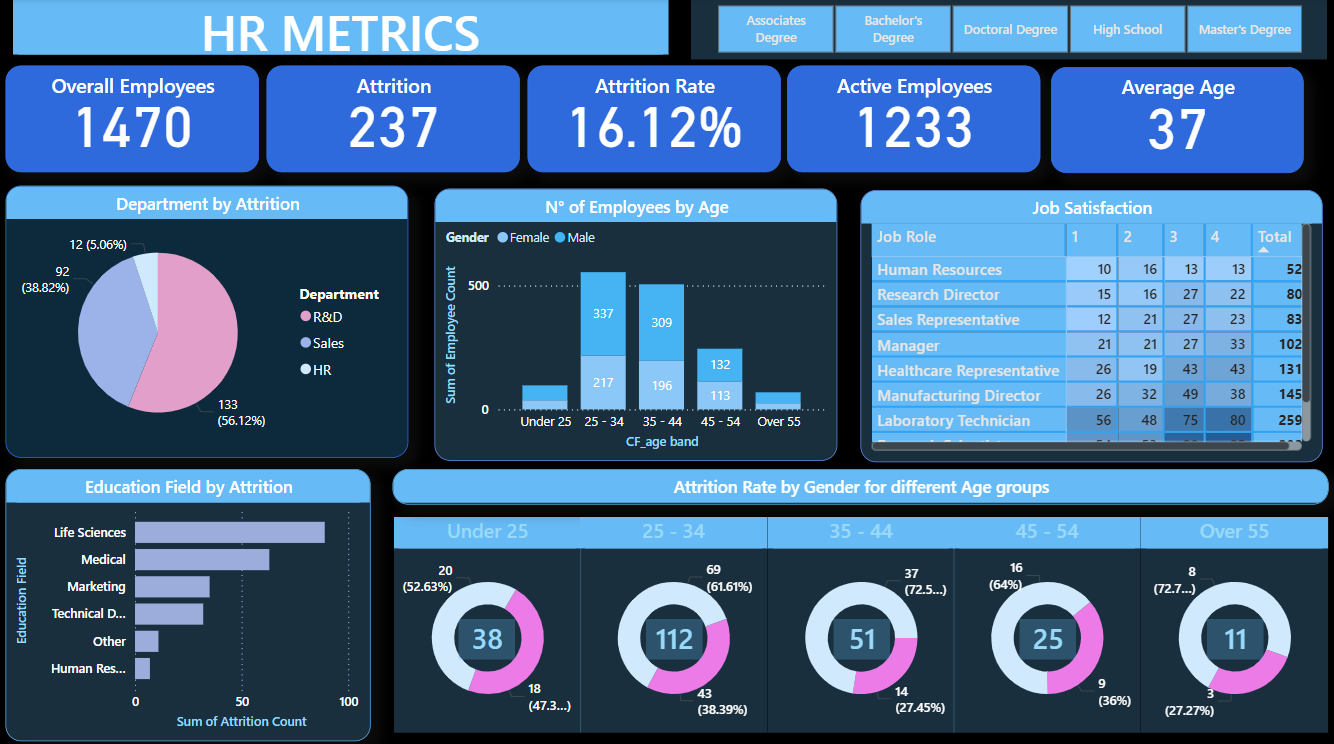

This screenshot's page, from the dashboard's own definition file:
{"tool":"powerbi","page":{"name":"Page 1","canvas":[1280,720],"ordinal":0},"visuals":[{"type":"card","title":"Overall Employees","fields":{"Values":["Sum(HR Data xlsx - HR data.Employee Count)"]},"box":[7.1,65.1,241.9,101.8],"z":0},{"type":"card","title":"Attrition","fields":{"Values":["Sum(HR Data xlsx - HR data.Attrition Count)"]},"box":[256,65.1,241.9,101.8],"z":1000},{"type":"card","title":"Attrition Rate","fields":{"Values":["HR Data xlsx - HR data.attrition rate"]},"box":[505,65.1,241.9,101.8],"z":2000},{"type":"card","title":"Active Employees","fields":{"Values":["HR Data xlsx - HR data.active employees"]},"box":[753.9,65.1,241.9,101.8],"z":3000},{"type":"card","title":"Average Age","fields":{"Values":["Avg(HR Data xlsx - HR data.Age)"]},"box":[1005.7,65.7,241.4,101.4],"z":4000},{"type":"pieChart","title":"Department by Attrition","fields":{"Category":["HR Data xlsx - HR data.Department"],"Y":["Sum(HR Data xlsx - HR data.Attrition Count)"]},"box":[7.1,179.6,384.8,260.3],"z":5000},{"type":"columnChart","title":"N° of Employees by Age","fields":{"Category":["HR Data xlsx - HR data.CF_age band"],"Y":["Sum(HR Data xlsx - HR data.Employee Count)"],"Series":["HR Data xlsx - HR data.Gender"]},"box":[417.3,182.5,384.8,260.3],"z":6000},{"type":"pivotTable","title":"Job Satisfaction","fields":{"Rows":["HR Data xlsx - HR data.Job Role"],"Columns":["HR Data xlsx - HR data.Job Satisfaction"],"Values":["Sum(HR Data xlsx - HR data.Employee Count)"]},"box":[824.3,182.9,441.4,260],"z":7000},{"type":"barChart","title":"Education Field by Attrition","fields":{"Category":["HR Data xlsx - HR data.Education Field"],"Y":["Sum(HR Data xlsx - HR data.Attrition Count)"]},"box":[7.1,450,348.6,260],"z":8000},{"type":"donutChart","title":"Under 25","fields":{"Category":["HR Data xlsx - HR data.Gender"],"Y":["Sum(HR Data xlsx - HR data.Attrition Count)"],"Series":["HR Data xlsx - HR data.CF_age band"]},"box":[378.6,495.7,178.6,205.7],"z":9000},{"type":"textbox","title":"Attrition Rate by Gender for different Age groups","box":[377.1,450,894.3,34.3],"z":10000},{"type":"donutChart","title":"25 - 34","fields":{"Category":["HR Data xlsx - HR data.Gender"],"Y":["Sum(HR Data xlsx - HR data.Attrition Count)"],"Series":["HR Data xlsx - HR data.CF_age band"]},"box":[555.7,495.7,178.6,205.7],"z":11000},{"type":"donutChart","title":"35 - 44","fields":{"Category":["HR Data xlsx - HR data.Gender"],"Y":["Sum(HR Data xlsx - HR data.Attrition Count)"],"Series":["HR Data xlsx - HR data.CF_age band"]},"box":[734.3,495.7,178.6,205.7],"z":12000},{"type":"donutChart","title":"45 - 54","fields":{"Category":["HR Data xlsx - HR data.Gender"],"Y":["Sum(HR Data xlsx - HR data.Attrition Count)"],"Series":["HR Data xlsx - HR data.CF_age band"]},"box":[912.9,495.7,178.6,205.7],"z":13000},{"type":"donutChart","title":"Over 55","fields":{"Category":["HR Data xlsx - HR data.Gender"],"Y":["Sum(HR Data xlsx - HR data.Attrition Count)"],"Series":["HR Data xlsx - HR data.CF_age band"]},"box":[1091.4,495.7,178.6,205.7],"z":14000},{"type":"card","fields":{"Values":["Sum(HR Data xlsx - HR data.Attrition Count)"]},"box":[440,592.9,54.3,38.6],"z":15000},{"type":"card","fields":{"Values":["Sum(HR Data xlsx - HR data.Attrition Count)"]},"box":[618.6,592.9,54.3,38.6],"z":16000},{"type":"card","fields":{"Values":["Sum(HR Data xlsx - HR data.Attrition Count)"]},"box":[797.1,592.9,54.3,38.6],"z":17000},{"type":"card","fields":{"Values":["Sum(HR Data xlsx - HR data.Attrition Count)"]},"box":[975.7,592.9,54.3,38.6],"z":18000},{"type":"card","fields":{"Values":["Sum(HR Data xlsx - HR data.Attrition Count)"]},"box":[1154.3,592.9,54.3,38.6],"z":19000},{"type":"textbox","title":"HR  METRICS","box":[14.3,0,625.7,54.3],"z":20000},{"type":"slicer","fields":{"Values":["HR Data xlsx - HR data.Education"]},"box":[661.7,0,607.6,58.9],"z":21000}]}

Visuals, with their boxes in screenshot pixels (x1, y1, x2, y2), scaled from the page's 1280x720 canvas onto the 1334x744 screenshot:
"Overall Employees" card: rect(7, 67, 260, 172)
"Attrition" card: rect(267, 67, 519, 172)
"Attrition Rate" card: rect(526, 67, 778, 172)
"Active Employees" card: rect(786, 67, 1038, 172)
"Average Age" card: rect(1048, 68, 1300, 173)
"Department by Attrition" pieChart: rect(7, 186, 408, 455)
"N° of Employees by Age" columnChart: rect(435, 189, 836, 458)
"Job Satisfaction" pivotTable: rect(859, 189, 1319, 458)
"Education Field by Attrition" barChart: rect(7, 465, 371, 734)
"Under 25" donutChart: rect(395, 512, 581, 725)
"Attrition Rate by Gender for different Age groups" textbox: rect(393, 465, 1325, 500)
"25 - 34" donutChart: rect(579, 512, 765, 725)
"35 - 44" donutChart: rect(765, 512, 951, 725)
"45 - 54" donutChart: rect(951, 512, 1138, 725)
"Over 55" donutChart: rect(1137, 512, 1324, 725)
card - Sum(HR Data xlsx - HR data.Attrition Count): rect(459, 613, 515, 653)
card - Sum(HR Data xlsx - HR data.Attrition Count): rect(645, 613, 701, 653)
card - Sum(HR Data xlsx - HR data.Attrition Count): rect(831, 613, 887, 653)
card - Sum(HR Data xlsx - HR data.Attrition Count): rect(1017, 613, 1073, 653)
card - Sum(HR Data xlsx - HR data.Attrition Count): rect(1203, 613, 1260, 653)
"HR  METRICS" textbox: rect(15, 0, 667, 56)
slicer - HR Data xlsx - HR data.Education: rect(690, 0, 1323, 61)
